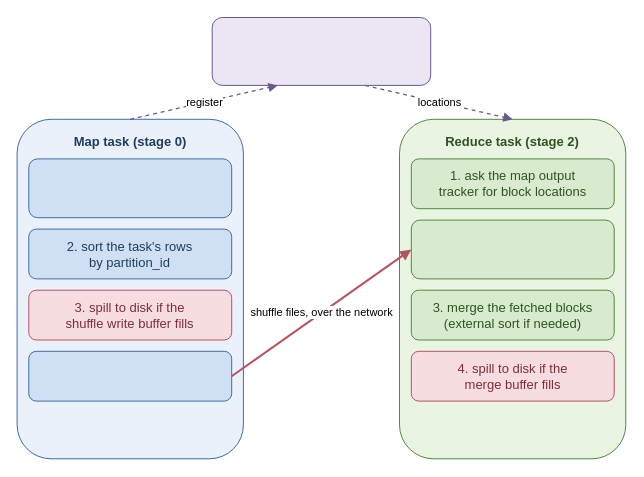
The diagram is 644 pixels wide and 477 high, and some of its shapes have lost their labels. Here are the shapes that lost their labels. From the top down, the centre of each, then its label:
At point 321,50: "Driver — Map Output Tracker executor, file, offsets per map task".
At point 130,188: "1. partition_id = hash(key) mod N, per row".
At point 512,249: "2. fetch this partition's blocks from every map task, over the network".
At point 130,375: "4. write ONE data file + ONE index file for this task".
